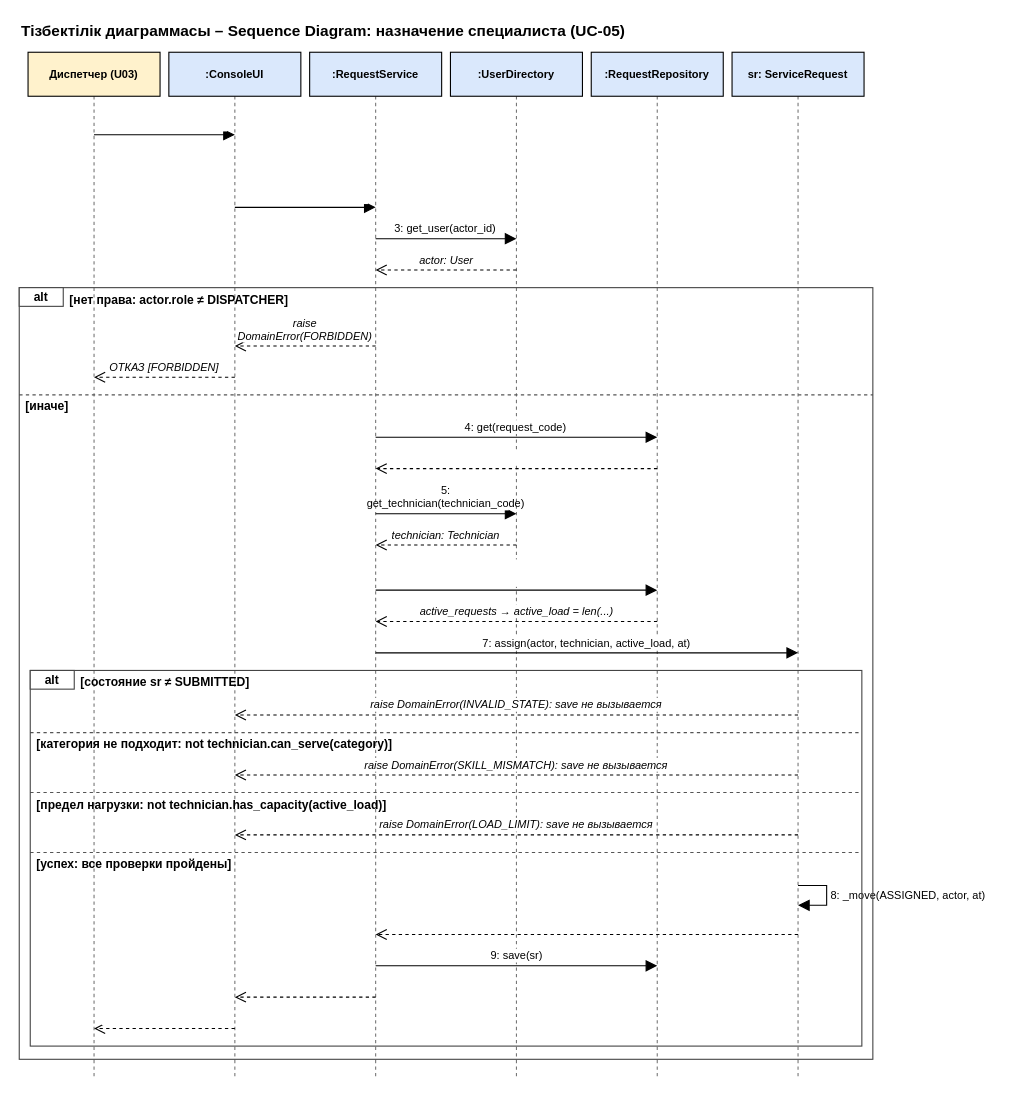
This 1024x1097 diagram has some shape labels left out. The shapes that lost their labels are listed below. From the top down, each one's box as (x1, y1, x2, y2) in pixels, then its label:
(101, 103, 227, 131): 1: assign("U03", "SR01", "T01")
(242, 148, 367, 204): 2: assign_technician(actor_id, request_code, technician_code)
(505, 451, 527, 465): sr
(419, 559, 613, 586): 6: find_by_technician(technician_code, ACTIVE_STATUSES)
(570, 917, 603, 931): None
(263, 980, 346, 993): sr (ASSIGNED)
(101, 1011, 227, 1025): OK: SR01 → ASSIGNED
